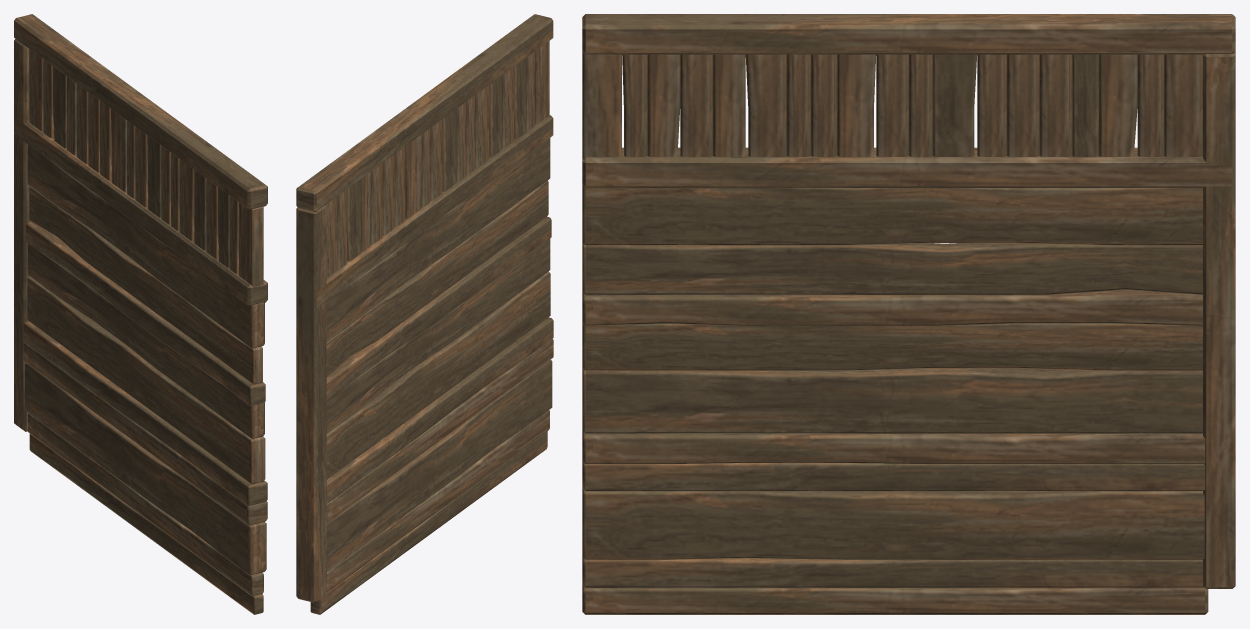
File: SM_wall_wood_04.fbx
3 views of the same model, side by side, from view 1: azimuth 30°, elevation 25°; view 2: azimuth 150°, elevation 25°; view 3: azimuth 270°, elevation 25° (orthographic). The views are drawn at different scales.
Parts seen in each view (by area): view 1: SM_wall_wood_04_LOD0; view 2: SM_wall_wood_04_LOD0; view 3: SM_wall_wood_04_LOD0.
Part boxes in pixels (x1,y1,x2,y2): SM_wall_wood_04_LOD0: (14, 14, 267, 614); SM_wall_wood_04_LOD0: (296, 14, 553, 614); SM_wall_wood_04_LOD0: (582, 14, 1235, 614).
Size of the model in its own units: 20.33 by 400 by 400.
Materials: 1 (1 with a texture image).
